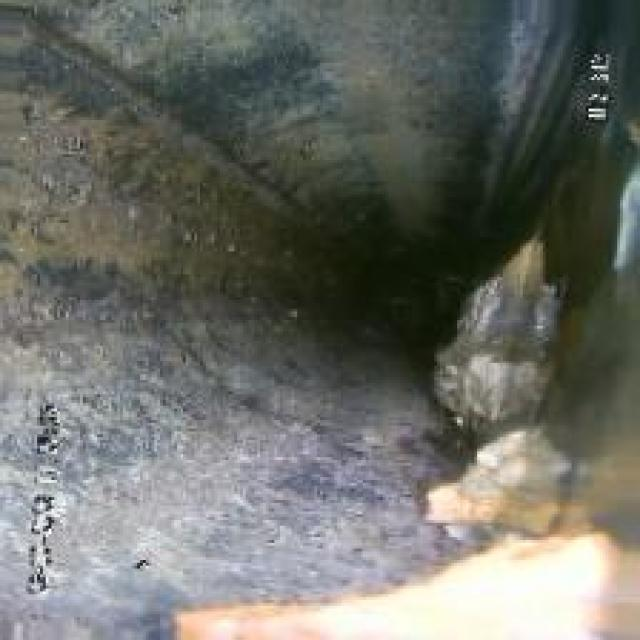stone: (426, 231, 591, 520)
